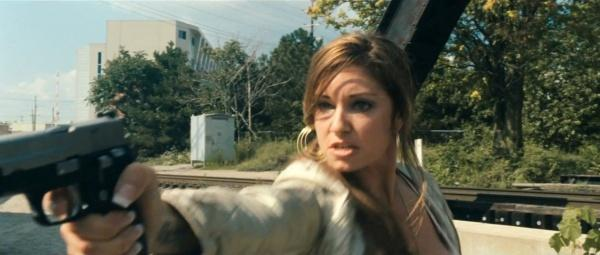Gun: (0, 117, 143, 232)
